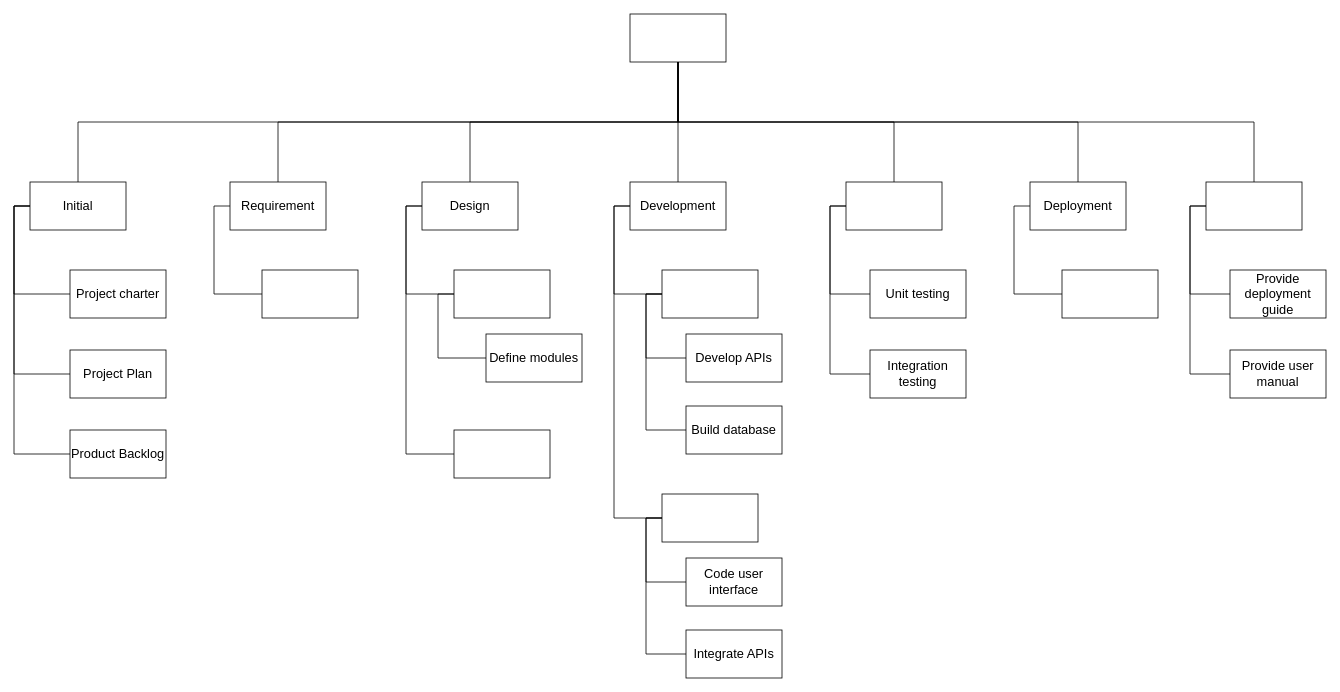
The diagram is 1340 pixels wide and 692 high, and some of its shapes have lost their labels. Here are the shapes that lost their labels. From the top down, the box of each, then its label:
(629, 13, 726, 62): Student Management System
(845, 181, 942, 230): Testing
(1205, 181, 1302, 230): Maintenance
(261, 269, 358, 318): SRS document
(453, 269, 550, 318): System architecture
(661, 269, 758, 318): Backend development
(1061, 269, 1158, 318): Deploy in free hosting
(453, 429, 550, 478): UI/UX design
(661, 493, 758, 542): Frontend development
